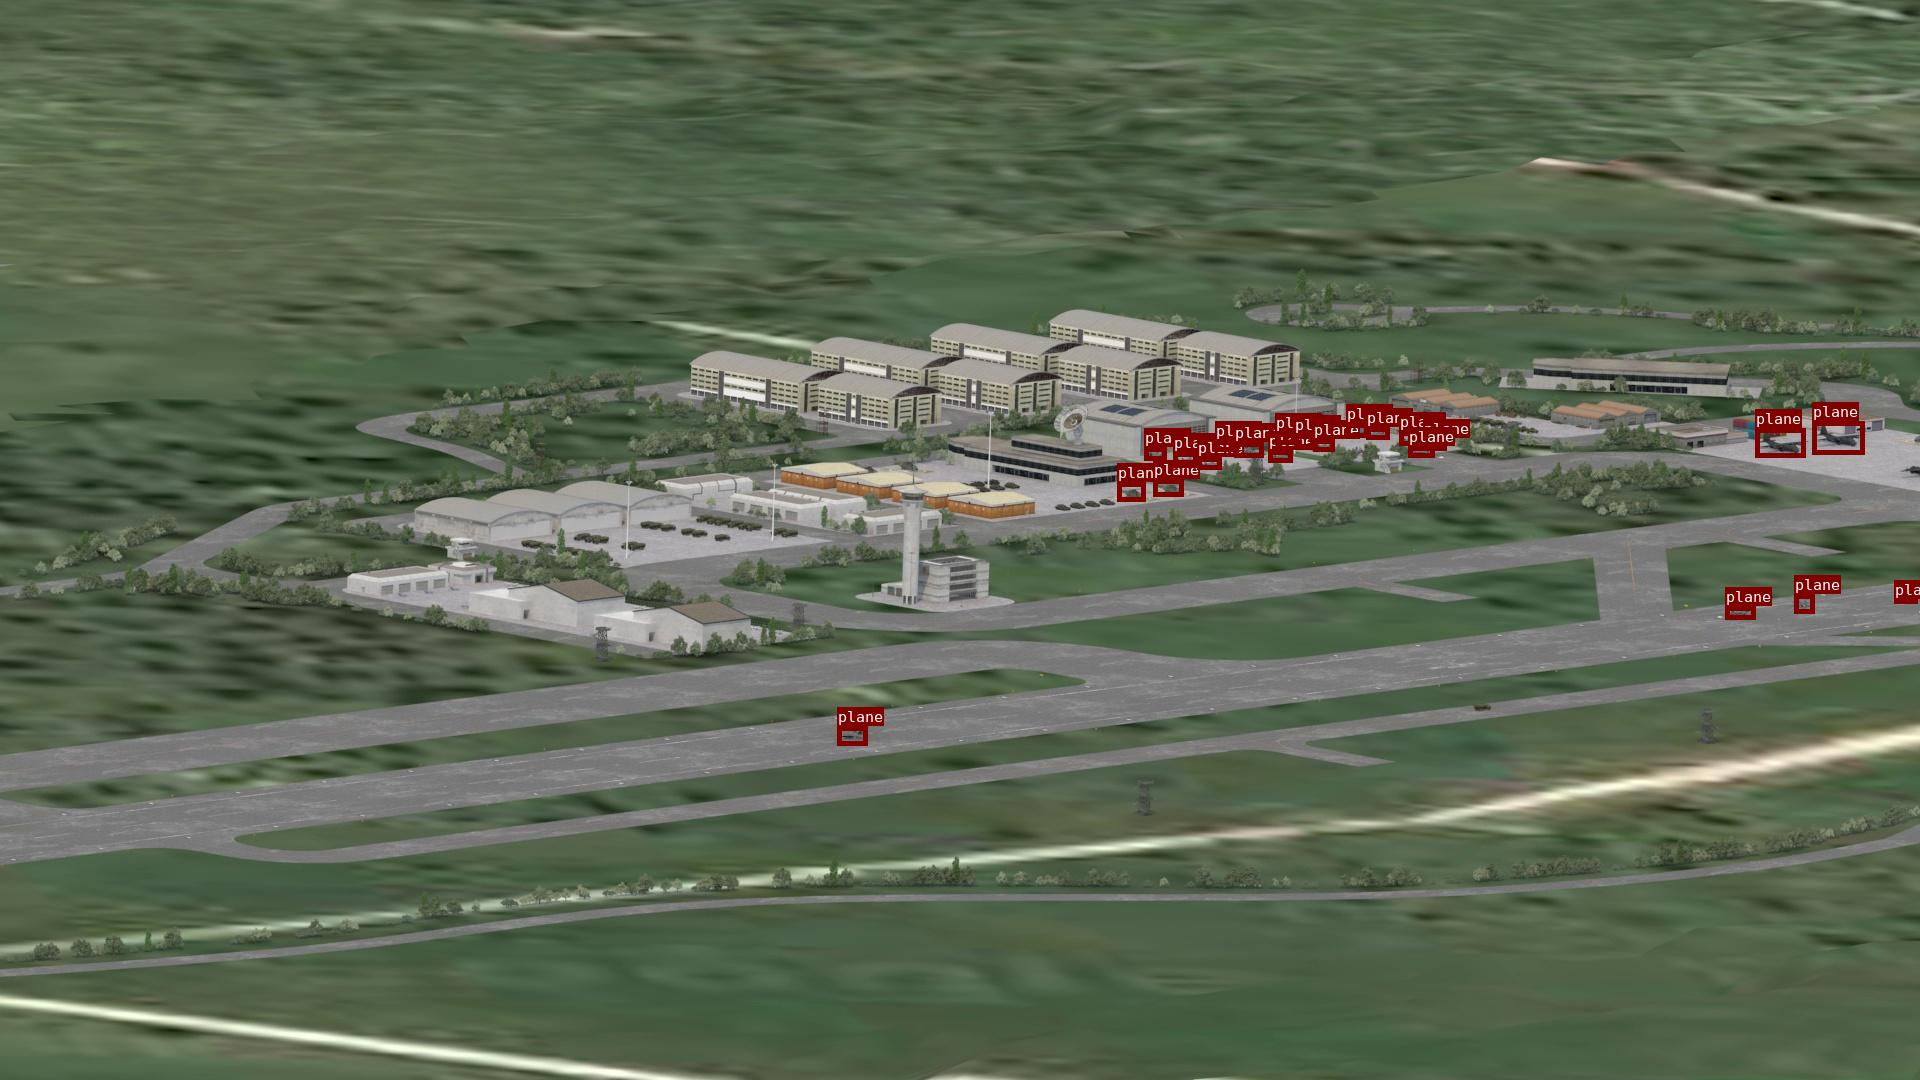plane: (1812, 421, 1865, 454), (1755, 429, 1805, 458), (837, 727, 866, 745), (1894, 580, 1917, 603), (1153, 479, 1183, 496), (1117, 483, 1145, 501), (1234, 442, 1263, 458), (1793, 593, 1815, 613), (1725, 607, 1755, 618), (1174, 452, 1197, 467), (1408, 446, 1433, 458), (1399, 431, 1422, 444), (1294, 434, 1313, 448), (1197, 458, 1221, 469), (1269, 450, 1292, 462), (1423, 438, 1447, 450), (1145, 447, 1166, 460), (1346, 423, 1367, 436), (1366, 427, 1389, 439), (1313, 439, 1335, 451), (1275, 433, 1295, 444), (1215, 440, 1233, 451)
